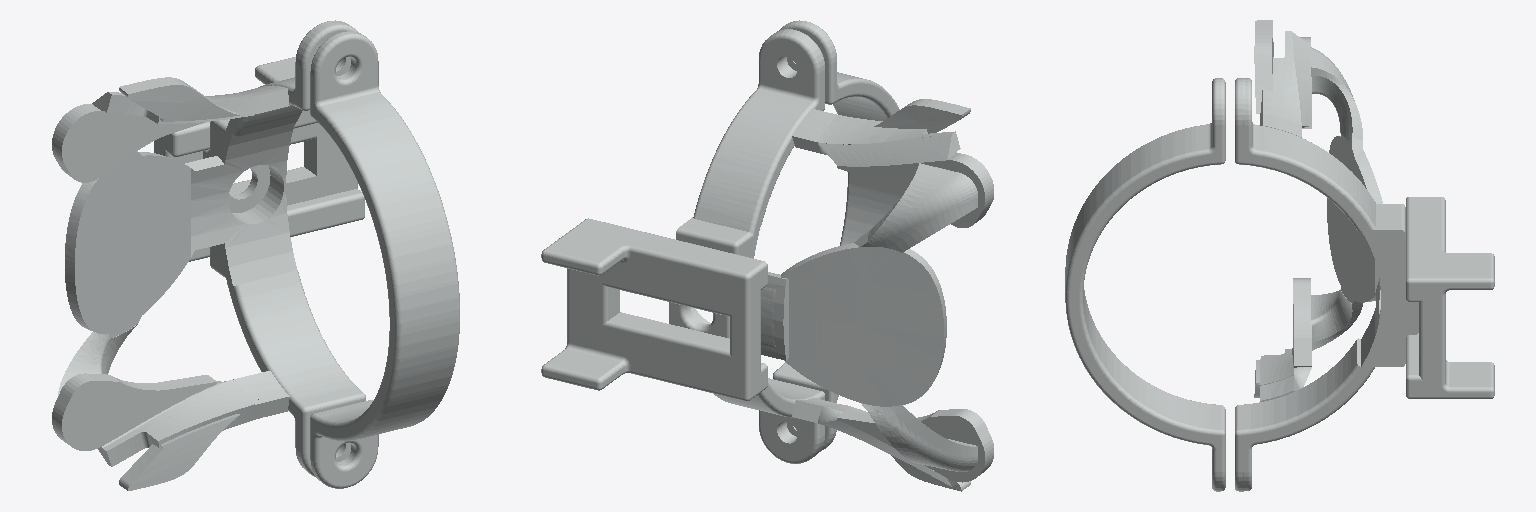
URDF robot description (gen3_lite_gen3_lite_2f):
<?xml version="1.0" ?>
<!-- =================================================================================== -->
<!-- |    This document was autogenerated by xacro from robots/gen3_lite_gen3_lite_2f.xacro | -->
<!-- |    EDITING THIS FILE BY HAND IS NOT RECOMMENDED                                 | -->
<!-- =================================================================================== -->
<robot name="gen3_lite_gen3_lite_2f">
  <!-- Run the macros -->
  <link name="base_link">
    <inertial>
      <origin rpy="0 0 0" xyz="0.00244324 0.00015573 0.08616742"/>
      <mass value="1.14608471"/>
      <inertia ixx="0.00335854" ixy="3.9E-07" ixz="0.00010989" iyy="0.003311" iyz="1.91E-06" izz="0.00077158"/>
    </inertial>
    <visual>
      <origin rpy="0 0 0" xyz="0 0 0"/>
      <geometry>
        <mesh filename="package://kortex_description/arms/gen3_lite/6dof/meshes/base_link.STL"/>
      </geometry>
      <material name="">
        <color rgba="0.803 0.824 0.820 1"/>
      </material>
    </visual>
    <collision>
      <origin rpy="0 0 0" xyz="0 0 0"/>
      <geometry>
        <mesh filename="package://kortex_description/arms/gen3_lite/6dof/meshes/base_link.STL"/>
      </geometry>
    </collision>
  </link>
  <gazebo reference="base_link">
    <material>Kortex/Gray</material>
  </gazebo>
  <link name="shoulder_link">
    <inertial>
      <origin rpy="0 0 0" xyz="2.477E-05 0.02213531 0.09937686"/>
      <mass value="0.95974404"/>
      <inertia ixx="0.00165947" ixy="2E-08" ixz="3.6E-07" iyy="0.00140355" iyz="0.00034927" izz="0.00089493"/>
    </inertial>
    <visual>
      <origin rpy="0 0 0" xyz="0 0 0"/>
      <geometry>
        <mesh filename="package://kortex_description/arms/gen3_lite/6dof/meshes/shoulder_link.STL"/>
      </geometry>
      <material name="">
        <color rgba="0.803 0.824 0.820 1"/>
      </material>
    </visual>
    <collision>
      <origin rpy="0 0 0" xyz="0 0 0"/>
      <geometry>
        <mesh filename="package://kortex_description/arms/gen3_lite/6dof/meshes/shoulder_link.STL"/>
      </geometry>
    </collision>
  </link>
  <gazebo reference="shoulder_link">
    <material>Kortex/Gray</material>
  </gazebo>
  <joint name="joint_1" type="revolute">
    <origin rpy="0 0 0" xyz="0 0 0.12825"/>
    <parent link="base_link"/>
    <child link="shoulder_link"/>
    <axis xyz="0 0 1"/>
    <limit effort="10" lower="-2.68" upper="2.68" velocity="1.6"/>
  </joint>
  <link name="arm_link">
    <inertial>
      <origin rpy="0 0 0" xyz="0.02998299 0.21154808 0.0453031"/>
      <mass value="1.17756164"/>
      <inertia ixx="0.01149277" ixy="1E-06" ixz="1.6E-07" iyy="0.00102851" iyz="0.00140765" izz="0.01133492"/>
    </inertial>
    <visual>
      <origin rpy="0 0 0" xyz="0 0 0"/>
      <geometry>
        <mesh filename="package://kortex_description/arms/gen3_lite/6dof/meshes/arm_link.STL"/>
      </geometry>
      <material name="">
        <color rgba="0.803 0.824 0.820 1"/>
      </material>
    </visual>
    <collision>
      <origin rpy="0 0 0" xyz="0 0 0"/>
      <geometry>
        <mesh filename="package://kortex_description/arms/gen3_lite/6dof/meshes/arm_link.STL"/>
      </geometry>
    </collision>
  </link>
  <gazebo reference="arm_link">
    <material>Kortex/Gray</material>
  </gazebo>
  <joint name="joint_2" type="revolute">
    <origin rpy="1.5708 0 0" xyz="0 -0.03 0.115"/>
    <parent link="shoulder_link"/>
    <child link="arm_link"/>
    <axis xyz="0 0 1"/>
    <limit effort="14" lower="-2.61" upper="2.61" velocity="1.6"/>
  </joint>
  <link name="forearm_link">
    <inertial>
      <origin rpy="0 0 0" xyz="0.0301559 0.09502206 0.0073555"/>
      <mass value="0.59767669"/>
      <inertia ixx="0.00163256" ixy="7.11E-06" ixz="1.54E-06" iyy="0.00029798" iyz="9.587E-05" izz="0.00169091"/>
    </inertial>
    <visual>
      <origin rpy="0 0 0" xyz="0 0 0"/>
      <geometry>
        <mesh filename="package://kortex_description/arms/gen3_lite/6dof/meshes/forearm_link.STL"/>
      </geometry>
      <material name="">
        <color rgba="0.803 0.824 0.820 1"/>
      </material>
    </visual>
    <collision>
      <origin rpy="0 0 0" xyz="0 0 0"/>
      <geometry>
        <mesh filename="package://kortex_description/arms/gen3_lite/6dof/meshes/forearm_link.STL"/>
      </geometry>
    </collision>
  </link>
  <gazebo reference="forearm_link">
    <material>Kortex/Gray</material>
  </gazebo>
  <joint name="joint_3" type="revolute">
    <origin rpy="-3.1416 0 0" xyz="0 0.28 0"/>
    <parent link="arm_link"/>
    <child link="forearm_link"/>
    <axis xyz="0 0 1"/>
    <limit effort="10" lower="-2.61" upper="2.61" velocity="1.6"/>
  </joint>
  <link name="lower_wrist_link">
    <inertial>
      <origin rpy="0 0 0" xyz="0.00575149 0.01000443 0.08719207"/>
      <mass value="0.52693412"/>
      <inertia ixx="0.00069098" ixy="2.4E-07" ixz="0.00016483" iyy="0.00078519" iyz="7.4E-07" izz="0.00034115"/>
    </inertial>
    <visual>
      <origin rpy="0 0 0" xyz="0 0 0"/>
      <geometry>
        <mesh filename="package://kortex_description/arms/gen3_lite/6dof/meshes/lower_wrist_link.STL"/>
      </geometry>
      <material name="">
        <color rgba="0.803 0.824 0.820 1"/>
      </material>
    </visual>
    <collision>
      <origin rpy="0 0 0" xyz="0 0 0"/>
      <geometry>
        <mesh filename="package://kortex_description/arms/gen3_lite/6dof/meshes/lower_wrist_link.STL"/>
      </geometry>
    </collision>
  </link>
  <gazebo reference="lower_wrist_link">
    <material>Kortex/Gray</material>
  </gazebo>
  <joint name="joint_4" type="revolute">
    <origin rpy="1.5708 0 0" xyz="0 -0.14 0.02"/>
    <parent link="forearm_link"/>
    <child link="lower_wrist_link"/>
    <axis xyz="0 0 1"/>
    <limit effort="7" lower="-2.6" upper="2.6" velocity="1.6"/>
  </joint>
  <link name="upper_wrist_link">
    <inertial>
      <origin rpy="0 0 0" xyz="0.08056517 0.00980409 0.01872799"/>
      <mass value="0.58097325"/>
      <inertia ixx="0.00021268" ixy="5.21E-06" ixz="2.91E-06" iyy="0.00106371" iyz="1.1E-07" izz="0.00108465"/>
    </inertial>
    <visual>
      <origin rpy="0 0 0" xyz="0 0 0"/>
      <geometry>
        <mesh filename="package://kortex_description/arms/gen3_lite/6dof/meshes/upper_wrist_link.STL"/>
      </geometry>
      <material name="">
        <color rgba="0.803 0.824 0.820 1"/>
      </material>
    </visual>
    <collision>
      <origin rpy="0 0 0" xyz="0 0 0"/>
      <geometry>
        <mesh filename="package://kortex_description/arms/gen3_lite/6dof/meshes/upper_wrist_link.STL"/>
      </geometry>
    </collision>
  </link>
  <gazebo reference="upper_wrist_link">
    <material>Kortex/Gray</material>
  </gazebo>
  <joint name="joint_5" type="revolute">
    <origin rpy="0 1.5708 0" xyz="0.0285 0 0.105"/>
    <parent link="lower_wrist_link"/>
    <child link="upper_wrist_link"/>
    <axis xyz="0 0 1"/>
    <limit effort="7" lower="-2.53" upper="2.53" velocity="1.6"/>
  </joint>
  <link name="end_effector_link"/>
  <joint name="joint_6" type="revolute">
    <origin rpy="0 -1.5708 0" xyz="-0.105 0 0.0285"/>
    <parent link="upper_wrist_link"/>
    <child link="end_effector_link"/>
    <axis xyz="0 0 1"/>
    <limit effort="7" lower="-2.6" upper="2.6" velocity="3.2"/>
  </joint>
  <link name="dummy_link">
    <inertial>
      <origin rpy="0 0 0" xyz="0 0 0.1"/>
      <mass value="0.0001"/>
      <inertia ixx="1E-08" ixy="0" ixz="0" iyy="1E-08" iyz="0" izz="1E-08"/>
    </inertial>
    <visual>
      <origin rpy="0 0 0" xyz="0 0 0.1"/>
      <geometry>
        <mesh filename="camprop.STL" scale="0.001 0.001 0.001"/>
      </geometry>
      <material name="">
        <color rgba="0.803 0.824 0.820 1"/>
      </material>
    </visual>
    <collision>
      <origin rpy="0 0 0" xyz="0 0 0.1"/>
      <geometry>
        <mesh filename="camprop.STL" scale="0.001 0.001 0.001"/>
      </geometry>
    </collision>
  </link>
  <joint name="end_effector" type="fixed">
    <origin rpy="0 0 0" xyz="0 0 0"/>
    <parent link="end_effector_link"/>
    <child link="dummy_link"/>
    <axis xyz="0 0 1"/>
    <limit effort="0" lower="0" upper="0" velocity="0"/>
  </joint>
  <!-- Tool frame used by the arm -->
  <link name="tool_frame"/>
  <joint name="tool_frame_joint" type="fixed">
    <origin rpy="0 0 1.57079632679" xyz="0 0 0.130"/>
    <parent link="dummy_link"/>
    <child link="tool_frame"/>
    <axis xyz="0 0 0"/>
  </joint>
  <!-- Gripper description -->
  <joint name="gripper_base_joint" type="fixed">
    <origin rpy="0 0 0" xyz="0 0 0"/>
    <parent link="dummy_link"/>
    <child link="gripper_base_link"/>
    <axis xyz="0 0 0"/>
  </joint>
  <link name="gripper_base_link">
    <inertial>
      <origin rpy="0 0 0" xyz="4.03E-06 1.08E-05 0.041397"/>
      <mass value="0.1395"/>
      <inertia ixx="0.00011614" ixy="1E-08" ixz="4E-08" iyy="0.00010327" iyz="0" izz="9.707E-05"/>
    </inertial>
    <visual>
      <origin rpy="0 0 0" xyz="0 0 0"/>
      <geometry>
        <mesh filename="package://kortex_description/grippers/gen3_lite_2f/meshes/gripper_base_link.STL"/>
        <!-- <mesh filename="camprop.STL"/> -->
      </geometry>
      <material name="">
        <color rgba="0.803 0.824 0.820 1"/>
      </material>
    </visual>
    <collision>
      <origin rpy="0 0 0" xyz="0 0 0"/>
      <geometry>
        <mesh filename="package://kortex_description/grippers/gen3_lite_2f/meshes/gripper_base_link.STL"/>
        <!-- <mesh filename="camprop.STL"/> -->
      </geometry>
    </collision>
  </link>
  <gazebo reference="gripper_base_link">
    <material>Kortex/Gray</material>
  </gazebo>
  <link name="right_finger_prox_link">
    <inertial>
      <origin rpy="0 0 0" xyz="0.020257 0.0063483 6.991E-05"/>
      <mass value="0.018385"/>
      <inertia ixx="2.29E-06" ixy="1.43E-06" ixz="0" iyy="4.56E-06" iyz="0" izz="4.77E-06"/>
    </inertial>
    <visual>
      <origin rpy="0 0 0" xyz="0 0 0"/>
      <geometry>
        <mesh filename="package://kortex_description/grippers/gen3_lite_2f/meshes/right_finger_prox_link.STL"/>
      </geometry>
      <material name="">
        <color rgba="0.803 0.824 0.820 1"/>
      </material>
    </visual>
    <collision>
      <origin rpy="0 0 0" xyz="0 0 0"/>
      <geometry>
        <mesh filename="package://kortex_description/grippers/gen3_lite_2f/meshes/right_finger_prox_link.STL"/>
      </geometry>
    </collision>
  </link>
  <gazebo reference="right_finger_prox_link">
    <material>Kortex/Gray</material>
  </gazebo>
  <joint name="right_finger_bottom_joint" type="revolute">
    <origin rpy="0 1.5708 0" xyz="0 -0.030501 0.070003"/>
    <parent link="gripper_base_link"/>
    <child link="right_finger_prox_link"/>
    <axis xyz="0 0 1"/>
    <limit effort="1000" lower="-0.09" upper="0.96" velocity="0.6"/>
  </joint>
  <link name="right_finger_dist_link">
    <inertial>
      <origin rpy="0 0 0" xyz="0.018488 0.0011091 0"/>
      <mass value="0.010748"/>
      <inertia ixx="6.3E-07" ixy="3.2E-07" ixz="0" iyy="1.83E-06" iyz="0" izz="1.61E-06"/>
    </inertial>
    <visual>
      <origin rpy="0 0 0" xyz="0 0 0"/>
      <geometry>
        <mesh filename="package://kortex_description/grippers/gen3_lite_2f/meshes/right_finger_dist_link.STL"/>
      </geometry>
      <material name="">
        <color rgba="0 0.055 0.525 1"/>
      </material>
    </visual>
    <collision>
      <origin rpy="0 0 0" xyz="0 0 0"/>
      <geometry>
        <mesh filename="package://kortex_description/grippers/gen3_lite_2f/meshes/right_finger_dist_link.STL"/>
      </geometry>
    </collision>
  </link>
  <gazebo reference="right_finger_dist_link">
    <material>Kortex/Blue</material>
  </gazebo>
  <joint name="right_finger_tip_joint" type="revolute">
    <origin rpy="0 0 0" xyz="-0.045636 0.020423 0"/>
    <parent link="right_finger_prox_link"/>
    <child link="right_finger_dist_link"/>
    <axis xyz="0 0 1"/>
    <limit effort="1000" lower="-0.50" upper="0.21" velocity="1000"/>
    <!--limit lower="-1.03" upper="0.21" effort="1000" velocity="1000" /-->
    <mimic joint="right_finger_bottom_joint" multiplier="-0.676" offset="0.149"/>
  </joint>
  <link name="left_finger_prox_link">
    <inertial>
      <origin rpy="0 0 0" xyz="0.020257 0.0063483 6.99E-05"/>
      <mass value="0.018385"/>
      <inertia ixx="2.29E-06" ixy="1.43E-06" ixz="0" iyy="4.56E-06" iyz="0" izz="4.77E-06"/>
    </inertial>
    <visual>
      <origin rpy="0 0 0" xyz="0 0 0"/>
      <geometry>
        <mesh filename="package://kortex_description/grippers/gen3_lite_2f/meshes/left_finger_prox_link.STL"/>
      </geometry>
      <material name="">
        <color rgba="0.803 0.824 0.820 1"/>
      </material>
    </visual>
    <collision>
      <origin rpy="0 0 0" xyz="0 0 0"/>
      <geometry>
        <mesh filename="package://kortex_description/grippers/gen3_lite_2f/meshes/left_finger_prox_link.STL"/>
      </geometry>
    </collision>
  </link>
  <gazebo reference="left_finger_prox_link">
    <material>Kortex/Gray</material>
  </gazebo>
  <joint name="left_finger_bottom_joint" type="revolute">
    <origin rpy="0 1.5708 0" xyz="0 0.0305 0.070003"/>
    <parent link="gripper_base_link"/>
    <child link="left_finger_prox_link"/>
    <axis xyz="0 0 1"/>
    <limit effort="1000" lower="-0.96" upper="0.09" velocity="1000"/>
    <mimic joint="right_finger_bottom_joint" multiplier="-1.0" offset="0.0"/>
  </joint>
  <link name="left_finger_dist_link">
    <inertial>
      <origin rpy="0 0 0" xyz="-0.018488 0.0011091 0"/>
      <mass value="0.010748"/>
      <inertia ixx="6.3E-07" ixy="3.2E-07" ixz="0" iyy="1.83E-06" iyz="0" izz="1.61E-06"/>
    </inertial>
    <visual>
      <origin rpy="0 0 0" xyz="0 0 0"/>
      <geometry>
        <mesh filename="package://kortex_description/grippers/gen3_lite_2f/meshes/left_finger_dist_link.STL"/>
      </geometry>
      <material name="">
        <color rgba="0 0.055 0.525 1"/>
      </material>
    </visual>
    <collision>
      <origin rpy="0 0 0" xyz="0 0 0"/>
      <geometry>
        <mesh filename="package://kortex_description/grippers/gen3_lite_2f/meshes/left_finger_dist_link.STL"/>
      </geometry>
    </collision>
  </link>
  <gazebo reference="left_finger_dist_link">
    <material>Kortex/Blue</material>
  </gazebo>
  <joint name="left_finger_tip_joint" type="revolute">
    <origin rpy="0 0 0" xyz="-0.045636 -0.020423 6.9901E-05"/>
    <parent link="left_finger_prox_link"/>
    <child link="left_finger_dist_link"/>
    <axis xyz="0 0 -1"/>
    <limit effort="1000" lower="-0.50" upper="0.21" velocity="1000"/>
    <!--limit lower="-1.03" upper="0.21" effort="1000" velocity="1000" /-->
    <mimic joint="right_finger_bottom_joint" multiplier="-0.676" offset="0.149"/>
  </joint>
</robot>

--- Facts derived from the render (not from the file) ---
Views: 3 orthographic renders of the robot side by side, from view 1: azimuth 30°, elevation 25°; view 2: azimuth 150°, elevation 25°; view 3: azimuth 270°, elevation 25°.
Model gen3_lite_gen3_lite_2f with 14 links and 13 joints (10 revolute, 3 fixed), rooted at base_link, posed every joint at zero.
Links seen in each view (by area): view 1: dummy_link; view 2: dummy_link; view 3: dummy_link.
Boxes of the visible links, box(x1,y1,x2,y2) form: dummy_link: box(52, 20, 459, 490); dummy_link: box(541, 20, 993, 491); dummy_link: box(1065, 20, 1494, 491).
Size in the robot's own frame: 0.0858 by 0.0964 by 0.1009 metres.
Meshes: 12 distinct files referenced, 1 mesh visuals loaded (1 binary STL); not drawn: 11 (reference not matched to a file when rendering).